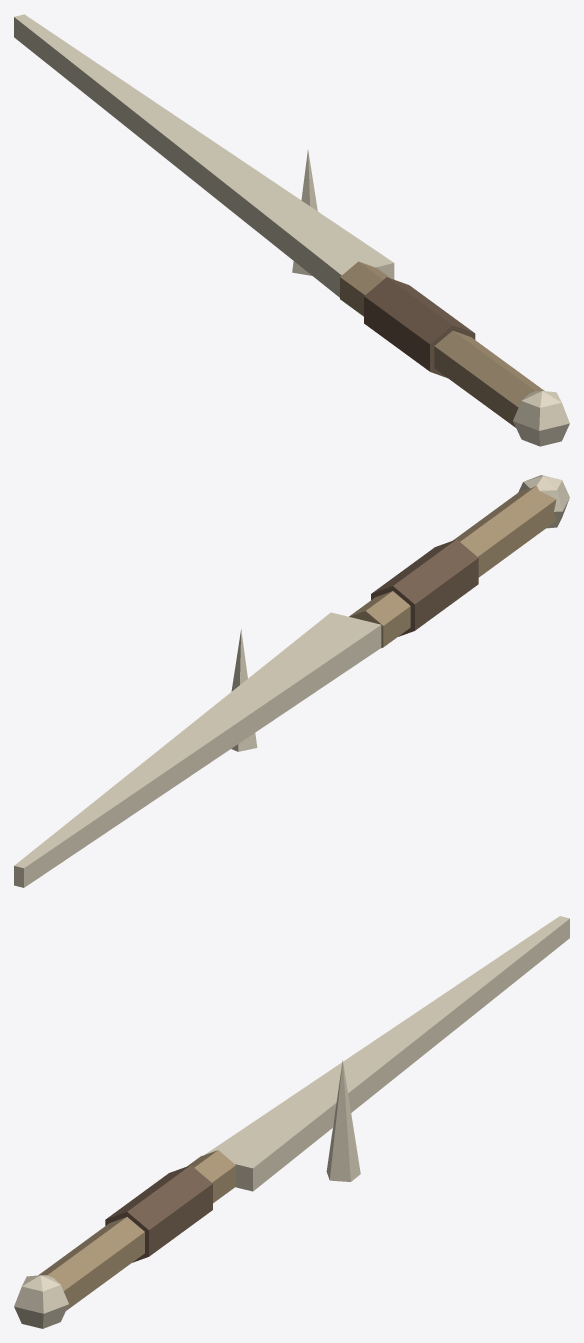
File: DF_BoneThorn.fbx
3 views of the same model, one above another, from view 1: azimuth 30°, elevation 25°; view 2: azimuth 150°, elevation 25°; view 3: azimuth 330°, elevation 25° (orthographic). The views are drawn at different scales.
Parts seen in each view (by area): view 1: DF_BoneThorn; view 2: DF_BoneThorn; view 3: DF_BoneThorn.
Boxes of the visible parts, <box> form: DF_BoneThorn: <box>14,14,569,446</box>; DF_BoneThorn: <box>14,475,569,887</box>; DF_BoneThorn: <box>14,916,569,1328</box>.
Bounding box in the file's own units: 0.2377 × 0.35 × 2.89.
